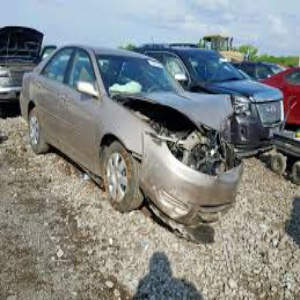bonnet: (143, 84, 235, 136)
bumper: (147, 147, 246, 240)
